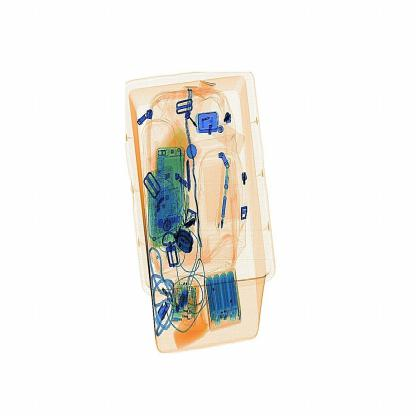knife: (178, 211, 209, 236)
